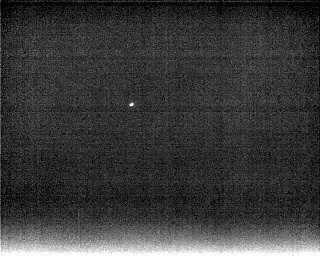BIRD: (127, 100, 136, 108)
